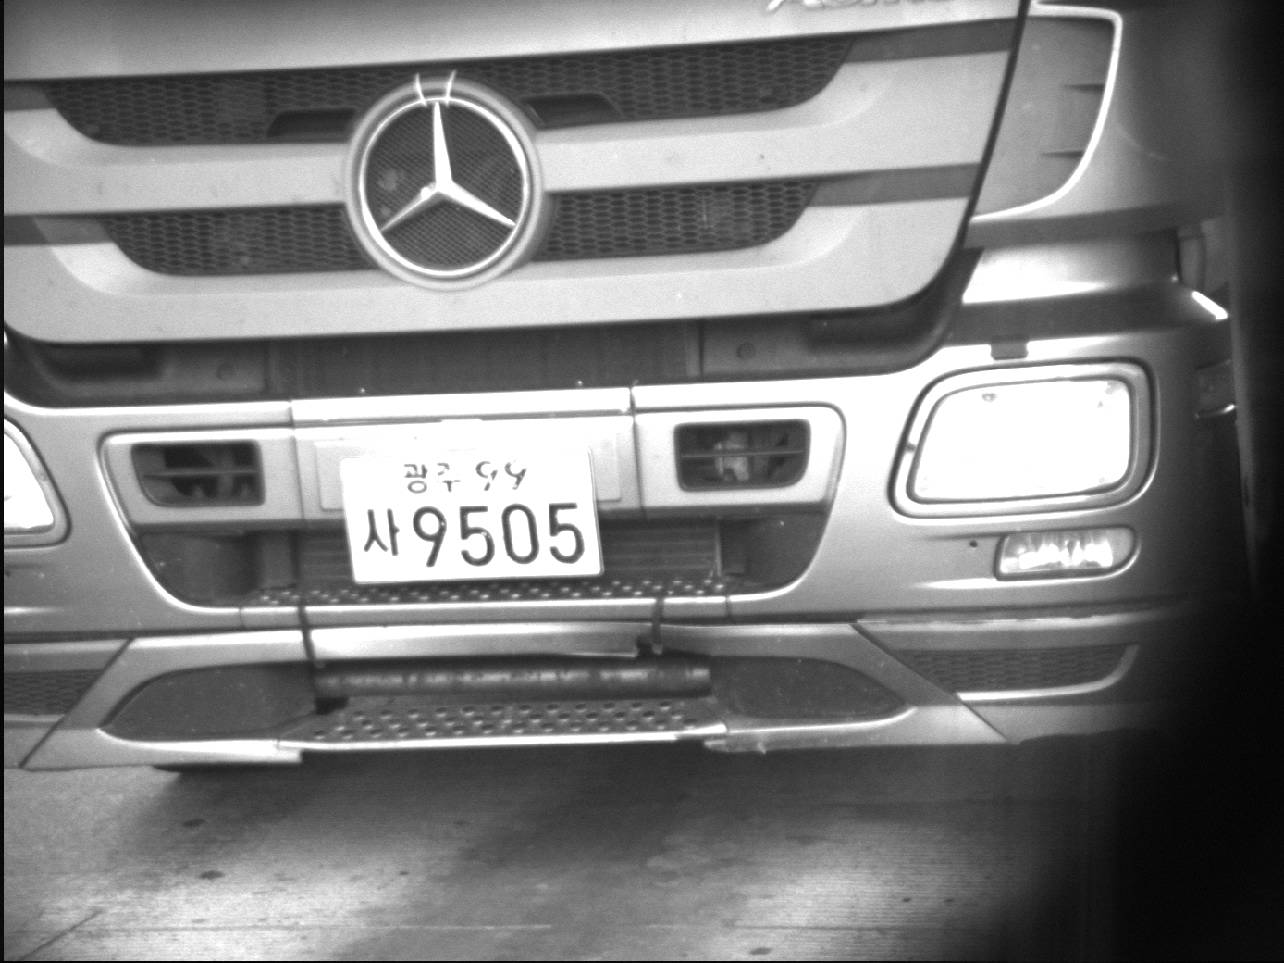car: (1, 1, 1283, 772)
plate: (335, 435, 608, 587)
